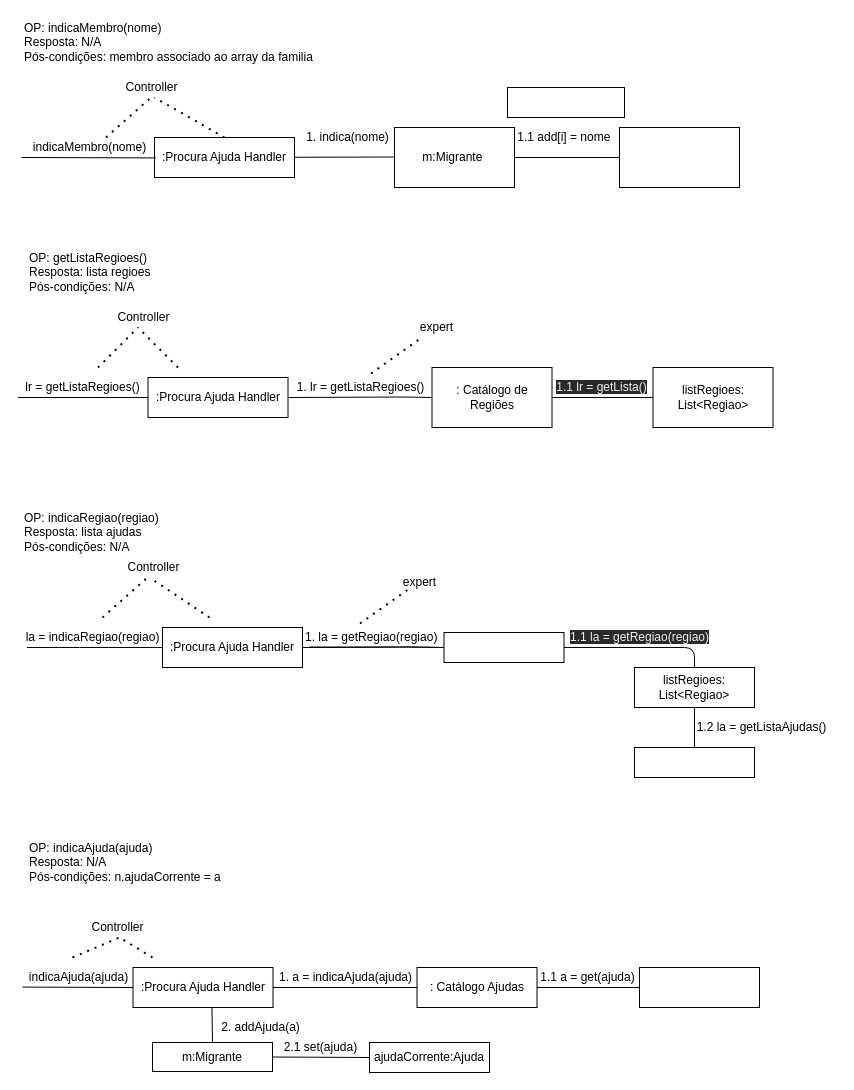
Some shapes in this 854 by 1090 pixel diagram are drawn without their labels. Each missing label, with the box of its shape:
:Catálogo de Regiões: (443, 632, 564, 662)
:Regiao: (634, 746, 754, 778)
fam:String[]: (618, 126, 740, 188)
la:list<Ajuda>: (638, 966, 760, 1008)
Nota: i começa em 1: (506, 86, 624, 118)
